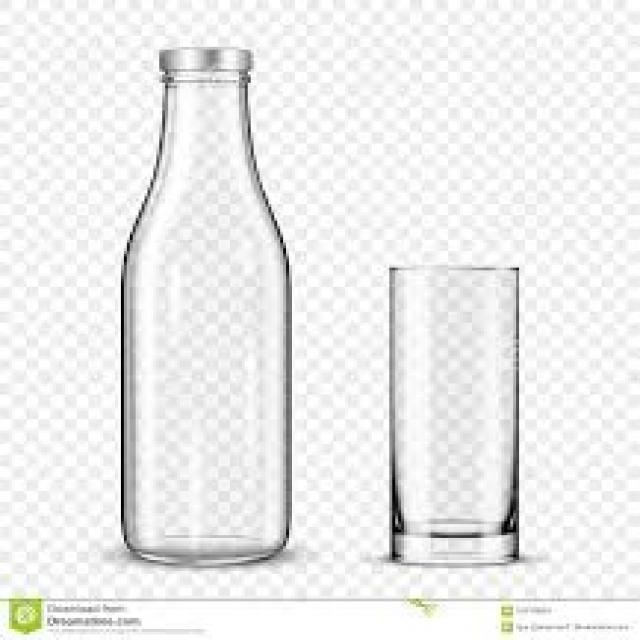Glass-Non-Biodegradable but Recyclable-: (119, 49, 291, 567), (386, 268, 522, 567)
